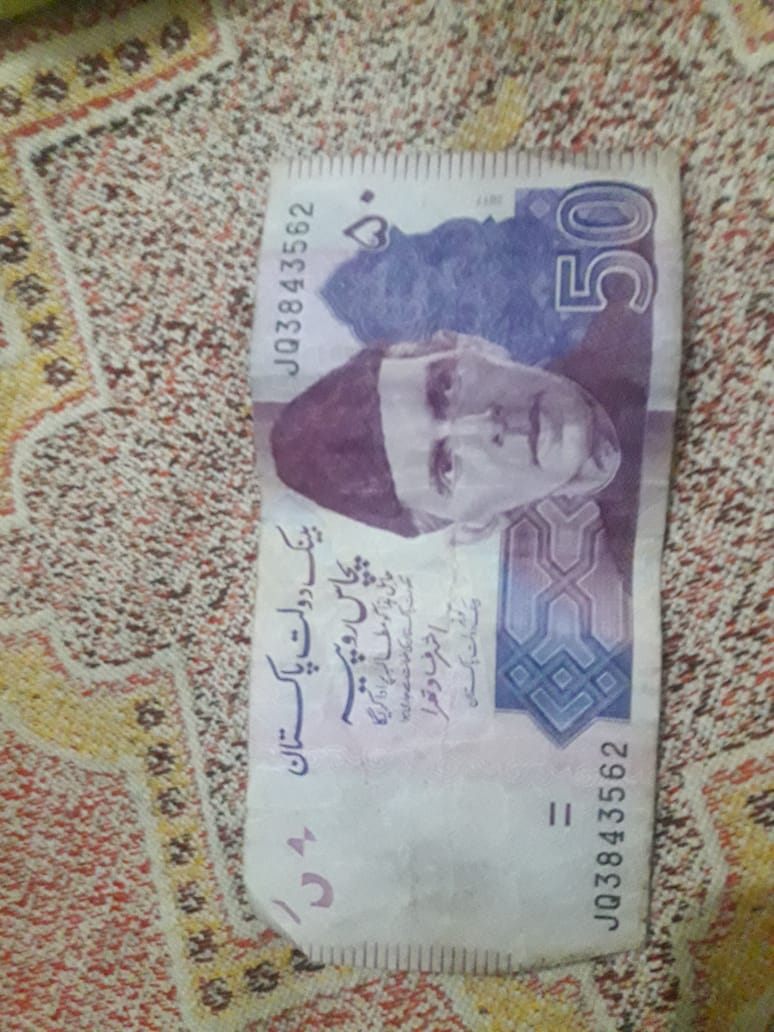50 rupee: (231, 130, 699, 981)
